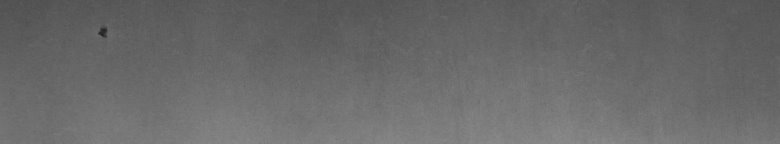fi: (92, 20, 113, 44)
